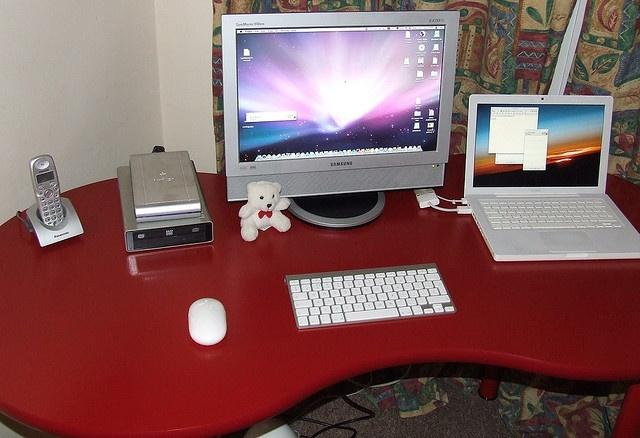AIO PC-Monitor-TV: (220, 9, 461, 230)
